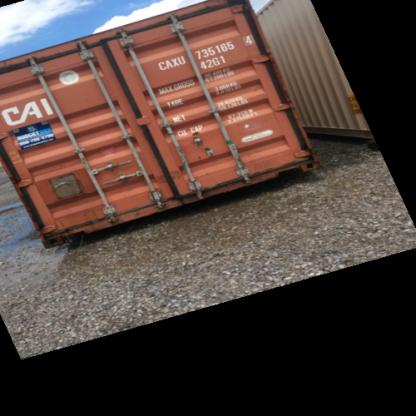Damage: (202, 162, 316, 198), (51, 202, 156, 230), (147, 167, 188, 188)
